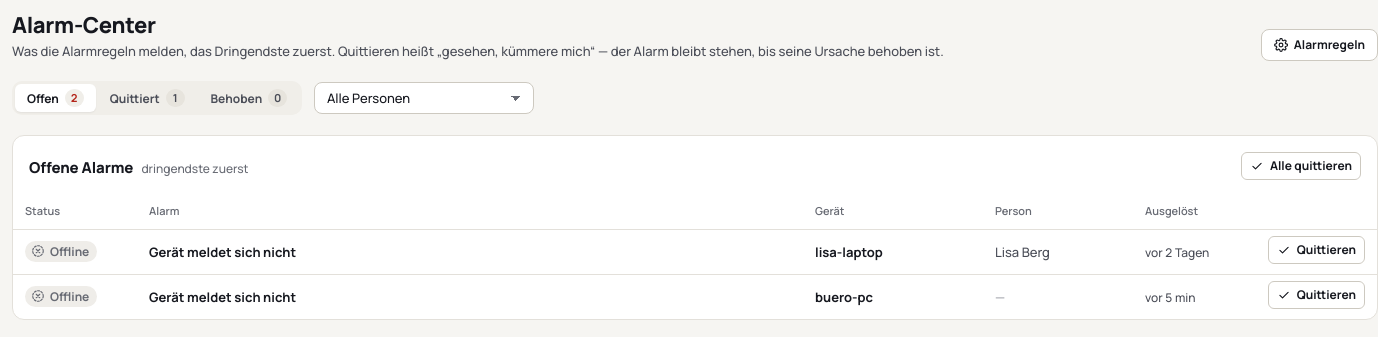
Test case: AlertsPage › the list › narrows the list and the counts to one person
Select "Lisa Berg" in the dropdown named "Nach Person filtern" at (424, 98), box [314,82,534,114]
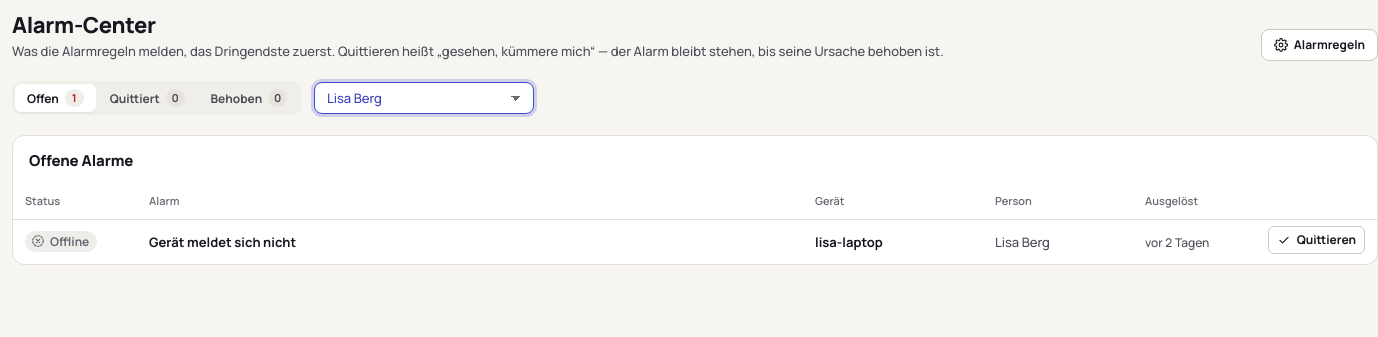
Expected: the tab "Offen 1" is shown, [15,84,96,112]
